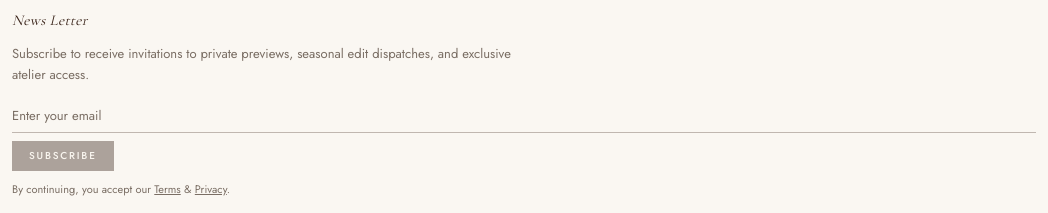
FooterNewsletter Component › should allow user typing into the newsletter input and submitting
This screenshot has width=1048, height=213.
Type "atelier@example.com" into the field with placeholder "Enter your email" at [524, 116], box left=12, top=100, right=1036, bottom=133
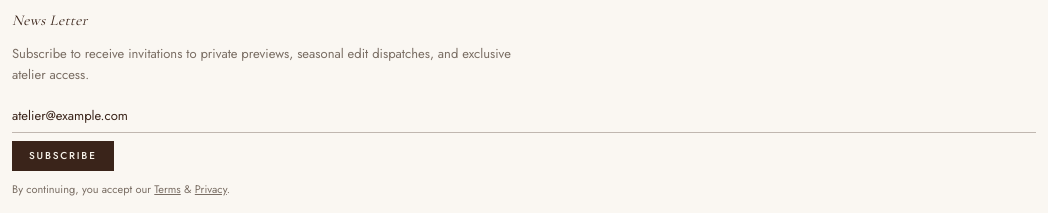
Expected: the button "Subscribe" is enabled, left=12, top=141, right=114, bottom=171
